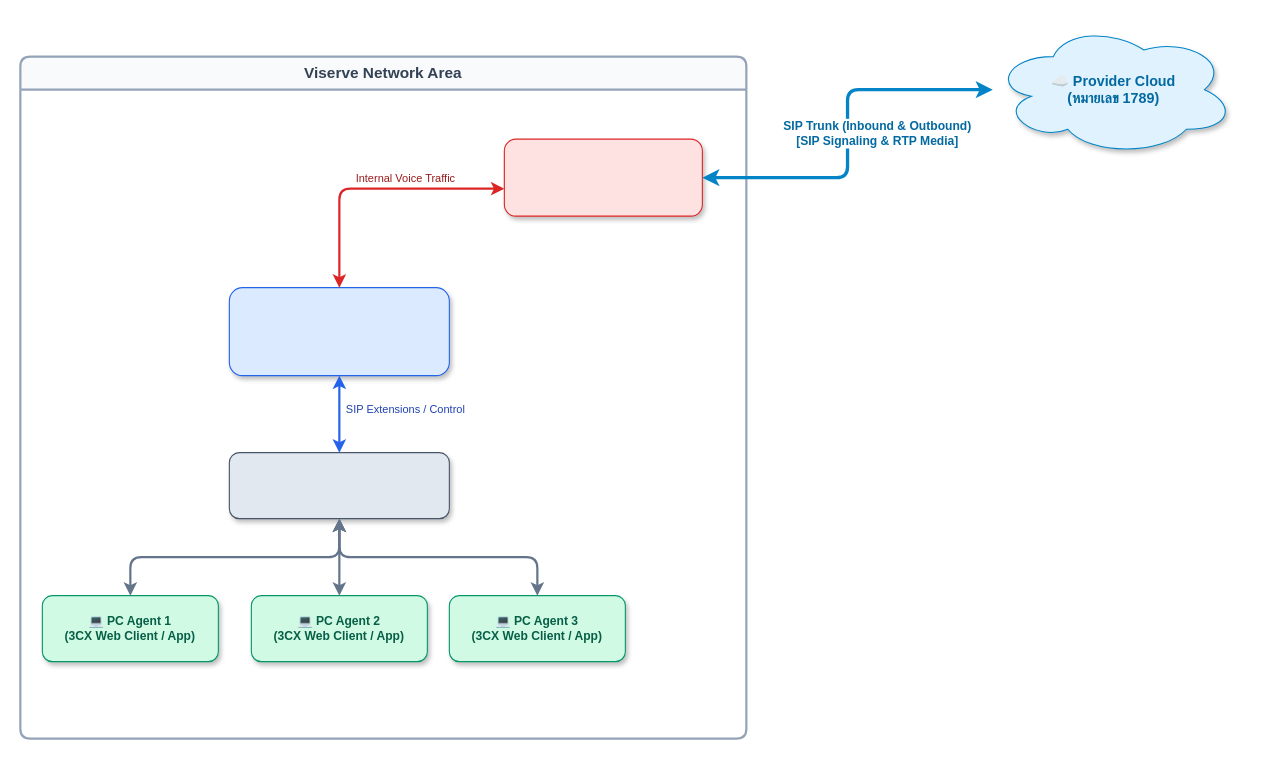
Some shapes in this 1261 by 759 pixel diagram are drawn without their labels. Each missing label, with the centre of its shape:
🔌 Network Switch (LAN) (PoE / VLAN Support): [340,486]
🖥️ Server 3CX (IP PBX Core System): [340,332]
🛡️ Firewall / Edgerouter (NAT / SIP ALG Disabled): [604,179]
